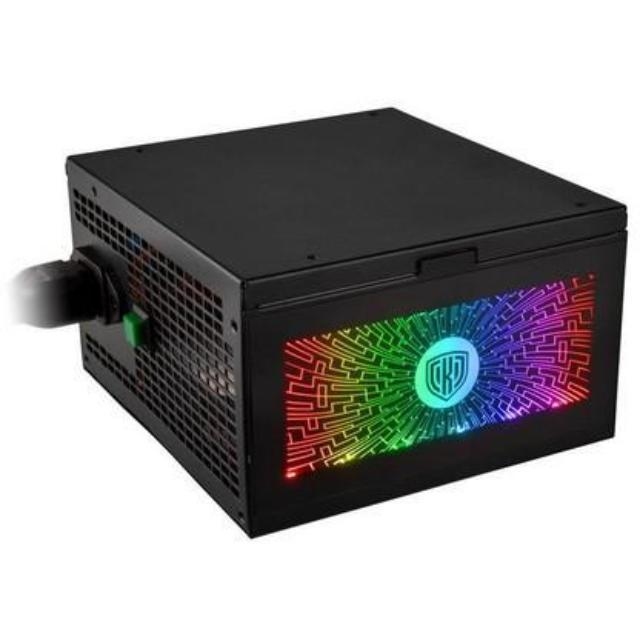PSU: (38, 76, 630, 538)
